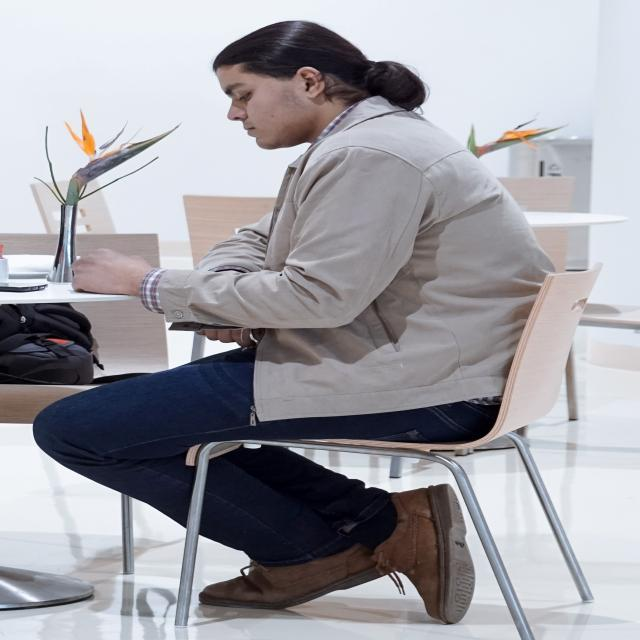nonfall: (67, 10, 561, 613)
